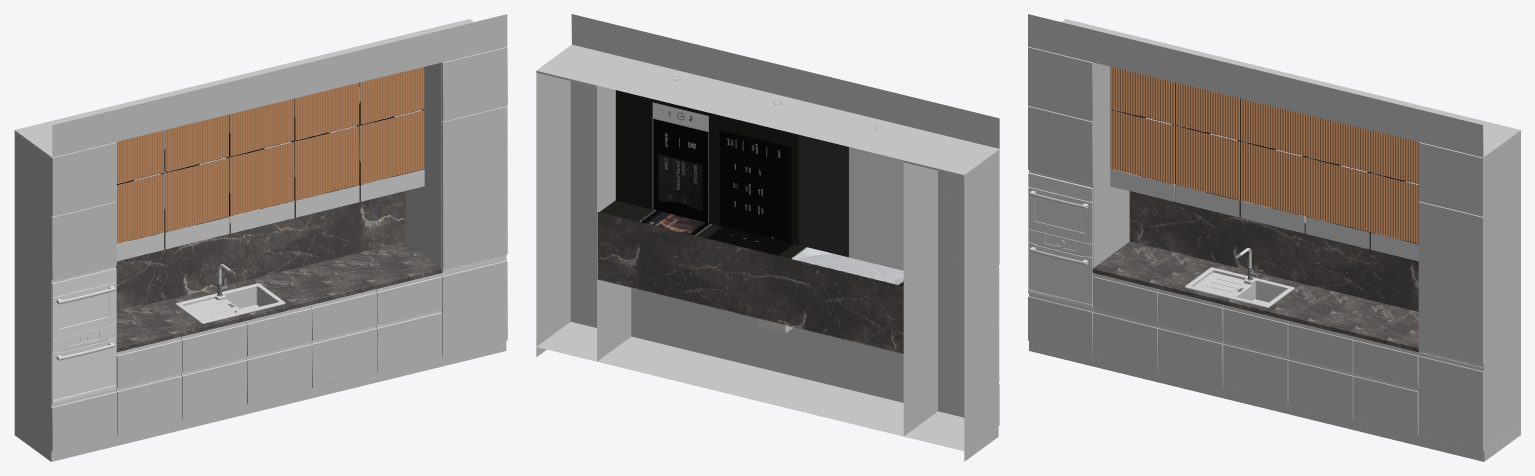
The model's file is Kitchen.fbx.
3 renders of one model, left to right at view 1: azimuth 30°, elevation 25°; view 2: azimuth 150°, elevation 25°; view 3: azimuth 330°, elevation 25°, orthographic. The views are drawn at different scales.
Visible parts, largest first — view 1: Kitchen; view 2: Kitchen; view 3: Kitchen.
Part boxes in pixels (<box>): Kitchen: <box>14,14,507,461</box>; Kitchen: <box>536,14,999,461</box>; Kitchen: <box>1028,14,1520,461</box>.
Bounding box in the file's own units: 423 × 300 × 65.77.
